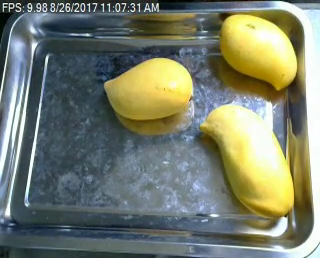Mango: (199, 96, 294, 223), (216, 12, 298, 95), (99, 54, 197, 122)
